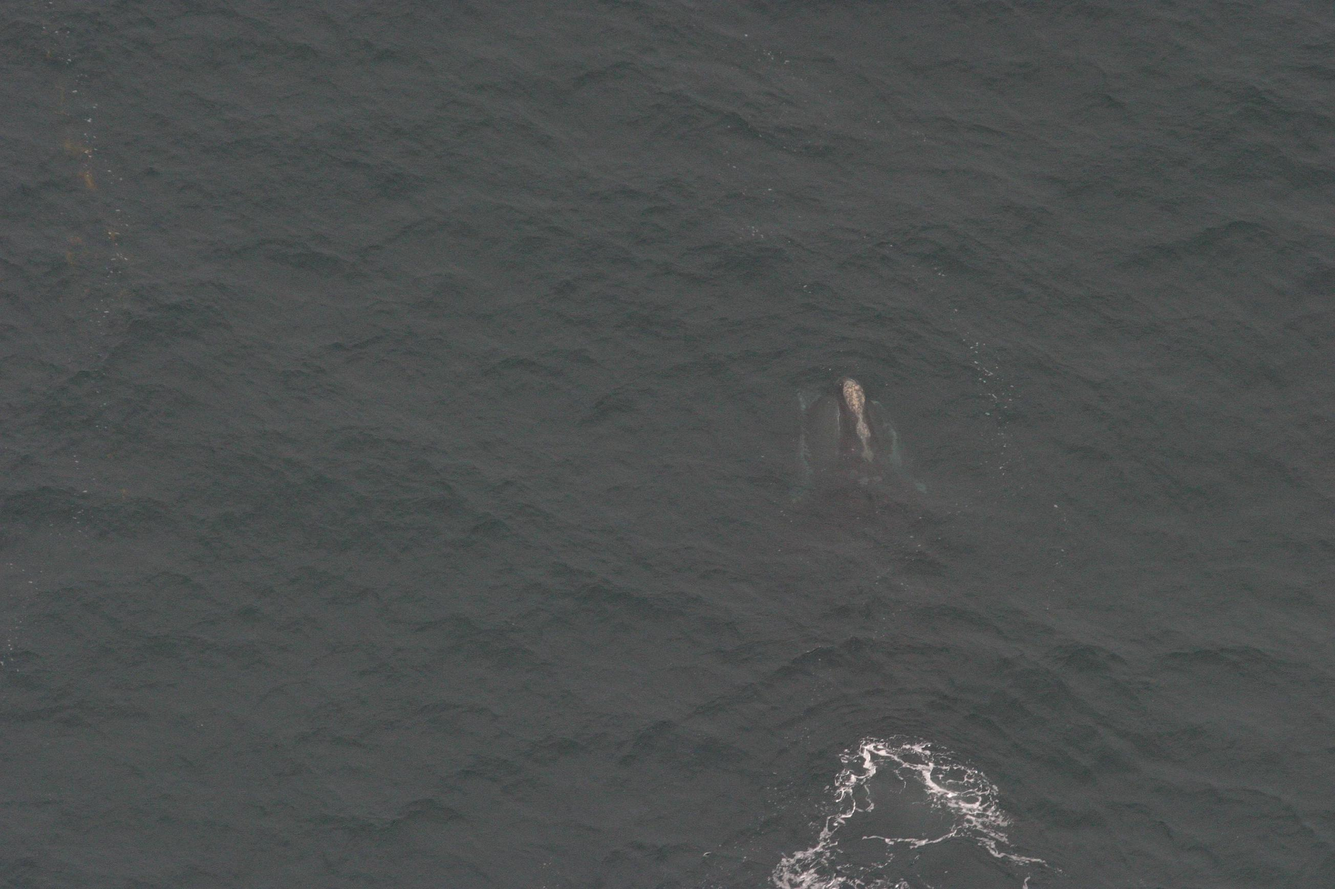whale: (772, 352, 984, 887)
